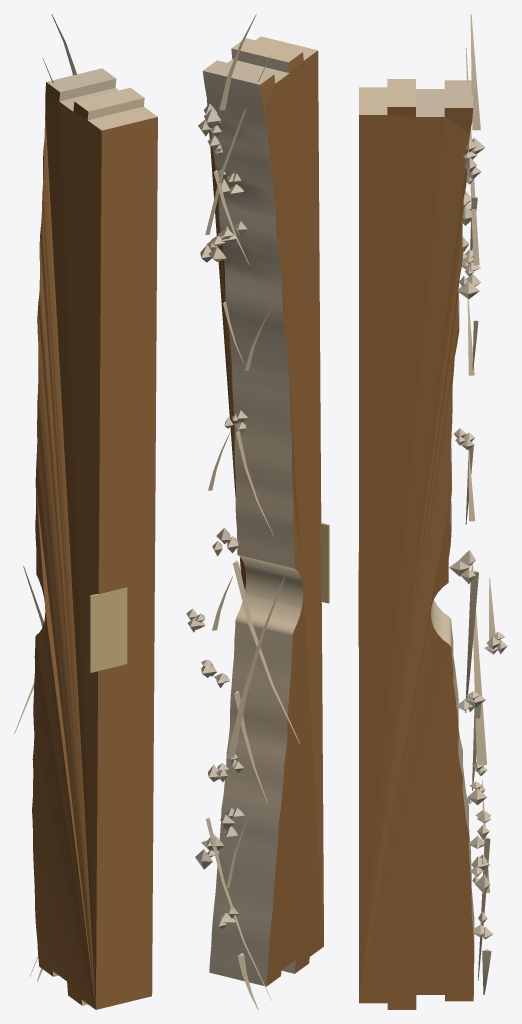
The model's file is Kit_DoorLeafBreak_Veneer_DA_Deb0.fbx.
3 views of the same model, side by side, from view 1: azimuth 30°, elevation 25°; view 2: azimuth 150°, elevation 25°; view 3: azimuth 270°, elevation 25° (orthographic).
Parts seen in each view (by area): view 1: deb_strip; view 2: deb_strip, deb_spl_03, deb_spl_06, deb_spl_02, deb_spl_11, deb_spl_13, deb_crm_07, deb_crm_10, deb_crm_03, deb_crm_09, deb_crm_04; view 3: deb_strip, deb_spl_03, deb_spl_06, deb_spl_13, deb_spl_11, deb_crm_07, deb_crm_09, deb_crm_04, deb_spl_02.
Part boxes in pixels (bbox=[...]): deb_strip: bbox=[32, 68, 157, 1009]; deb_strip: bbox=[202, 36, 329, 986]; deb_spl_03: bbox=[227, 577, 284, 758]; deb_spl_06: bbox=[233, 560, 299, 743]; deb_spl_02: bbox=[206, 817, 271, 1000]; deb_spl_11: bbox=[205, 55, 270, 234]; deb_spl_13: bbox=[219, 14, 256, 110]; deb_crm_07: bbox=[212, 528, 238, 556]; deb_crm_10: bbox=[218, 169, 243, 197]; deb_crm_03: bbox=[204, 103, 221, 136]; deb_crm_09: bbox=[195, 833, 222, 869]; deb_crm_04: bbox=[200, 236, 226, 262]; deb_strip: bbox=[358, 79, 474, 1009]; deb_spl_03: bbox=[471, 563, 486, 765]; deb_spl_06: bbox=[465, 570, 478, 712]; deb_spl_13: bbox=[470, 14, 480, 130]; deb_spl_11: bbox=[465, 48, 479, 265]; deb_crm_07: bbox=[449, 550, 475, 583]; deb_crm_09: bbox=[470, 855, 489, 894]; deb_crm_04: bbox=[457, 267, 480, 299]; deb_spl_02: bbox=[478, 837, 490, 980].
Bounding box in the file's own units: 0.0771 × 0.7252 × 0.0995.
